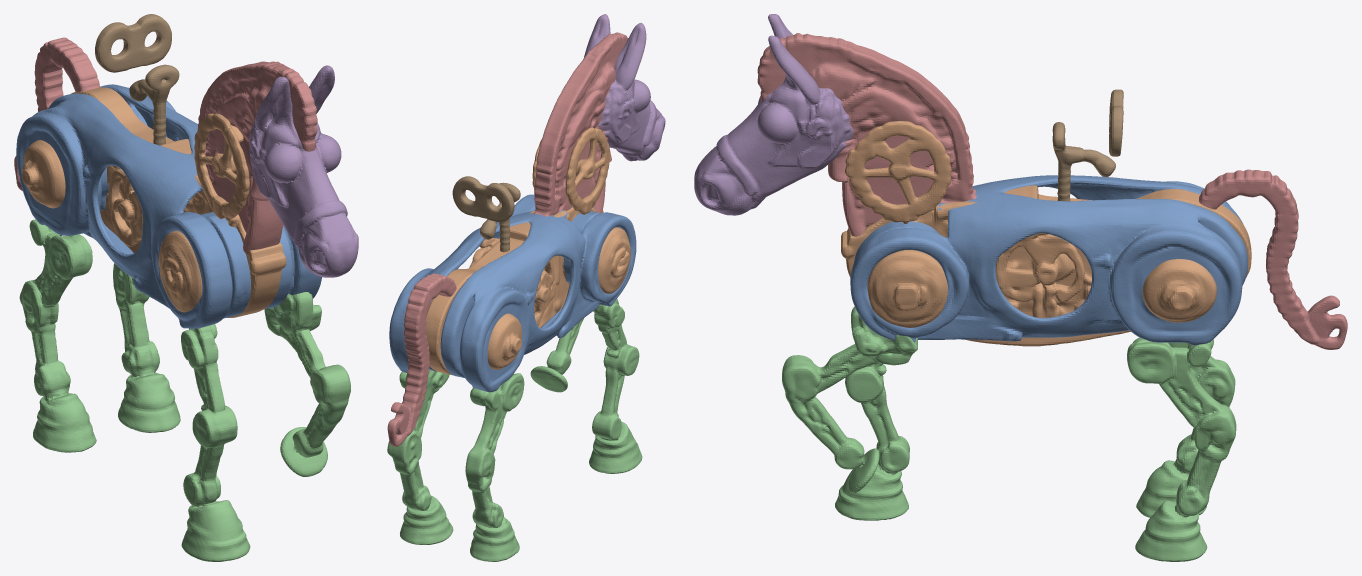
File: clockwork_horse_1.glb
The picture shows the model from 3 angles, left to right: view 1: azimuth 30°, elevation 25°; view 2: azimuth 150°, elevation 25°; view 3: azimuth 270°, elevation 25°; orthographic projection. The views are drawn at different scales.
Parts seen in each view (by area): view 1: jointed_legs, Brass_plated_body_segments, exposed_gear_mechanisms, head_with_lens_eyes, copper_mane_and_tail, winding_key_mechanism; view 2: Brass_plated_body_segments, jointed_legs, copper_mane_and_tail, exposed_gear_mechanisms, head_with_lens_eyes, winding_key_mechanism; view 3: Brass_plated_body_segments, jointed_legs, exposed_gear_mechanisms, copper_mane_and_tail, head_with_lens_eyes, winding_key_mechanism.
Boxes of the visible parts, bbox=[...] form: jointed_legs: bbox=[19, 219, 350, 561]; Brass_plated_body_segments: bbox=[16, 84, 321, 328]; exposed_gear_mechanisms: bbox=[21, 87, 286, 317]; head_with_lens_eyes: bbox=[249, 65, 358, 277]; copper_mane_and_tail: bbox=[14, 37, 317, 255]; winding_key_mechanism: bbox=[95, 14, 179, 145]; Brass_plated_body_segments: bbox=[389, 194, 636, 392]; jointed_legs: bbox=[387, 299, 642, 561]; copper_mane_and_tail: bbox=[387, 32, 628, 446]; exposed_gear_mechanisms: bbox=[426, 127, 630, 375]; head_with_lens_eyes: bbox=[584, 14, 665, 161]; winding_key_mechanism: bbox=[452, 176, 520, 252]; Brass_plated_body_segments: bbox=[850, 175, 1247, 345]; jointed_legs: bbox=[782, 306, 1236, 561]; exposed_gear_mechanisms: bbox=[841, 121, 1251, 346]; copper_mane_and_tail: bbox=[757, 33, 1347, 349]; head_with_lens_eyes: bbox=[694, 14, 853, 215]; winding_key_mechanism: bbox=[1052, 89, 1123, 201].
Bounding box in the file's own units: 0.5104 × 1.63 × 1.91.
